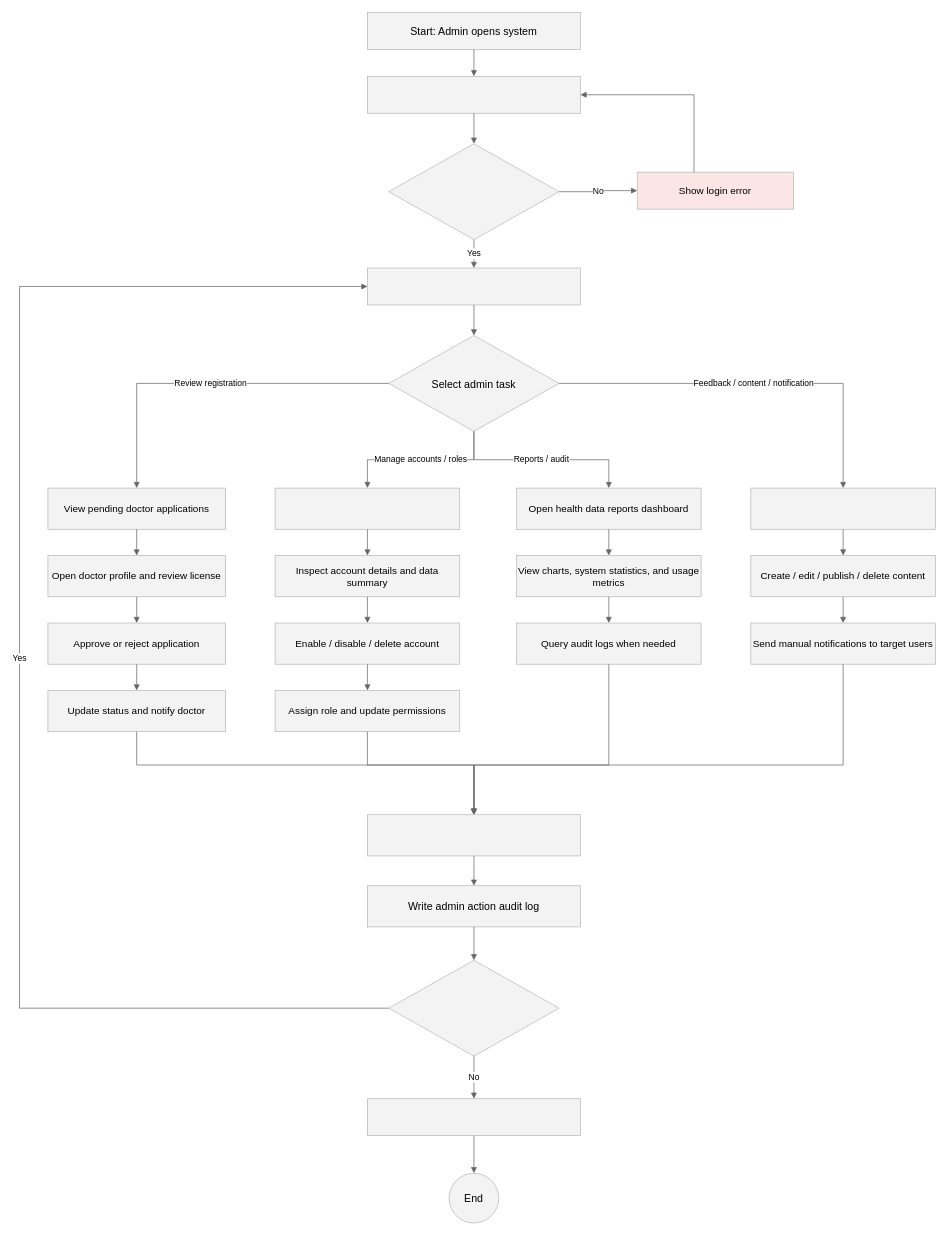
The diagram is 948 pixels wide and 1235 high, and some of its shapes have lost their labels. Each missing label, with the box of its shape:
Admin Dashboard: (367, 267, 580, 305)
Continue managing?: (388, 960, 559, 1056)
Credentials valid?: (388, 143, 559, 240)
Enter username & password: (367, 76, 580, 113)
Logout: (367, 1098, 580, 1136)
Persist changes / retrieve requested records in V2: (367, 814, 580, 856)
Read feedback details and respond / resolve: (750, 487, 935, 529)
Search doctor / patient / user list: (274, 487, 460, 529)
